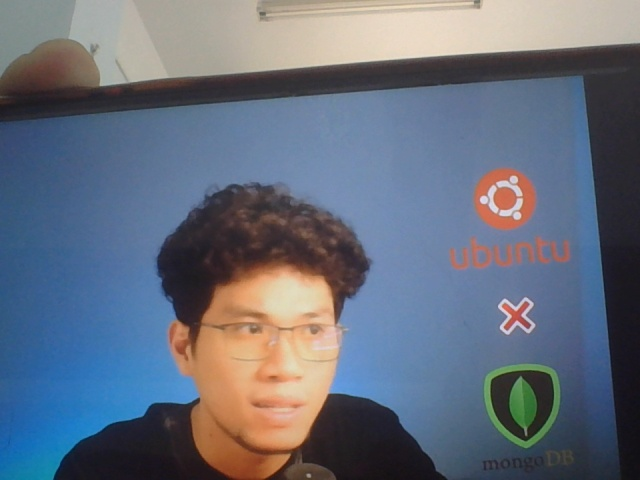fake: (171, 193, 361, 463)
